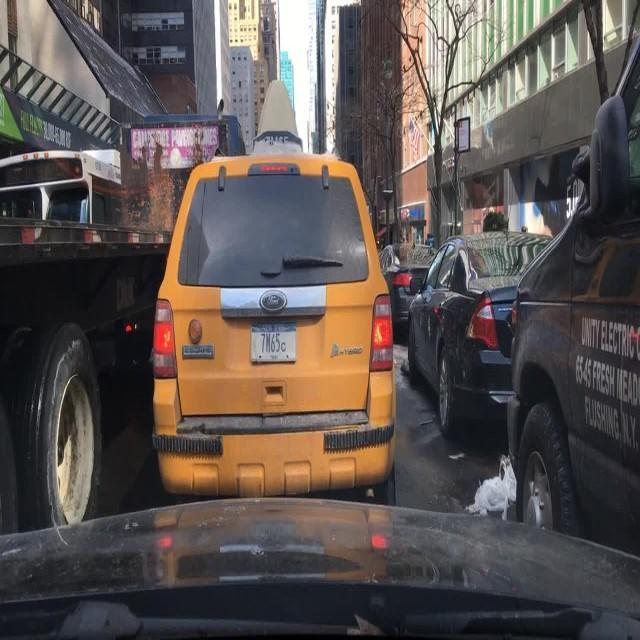normal: (119, 66, 441, 505)
